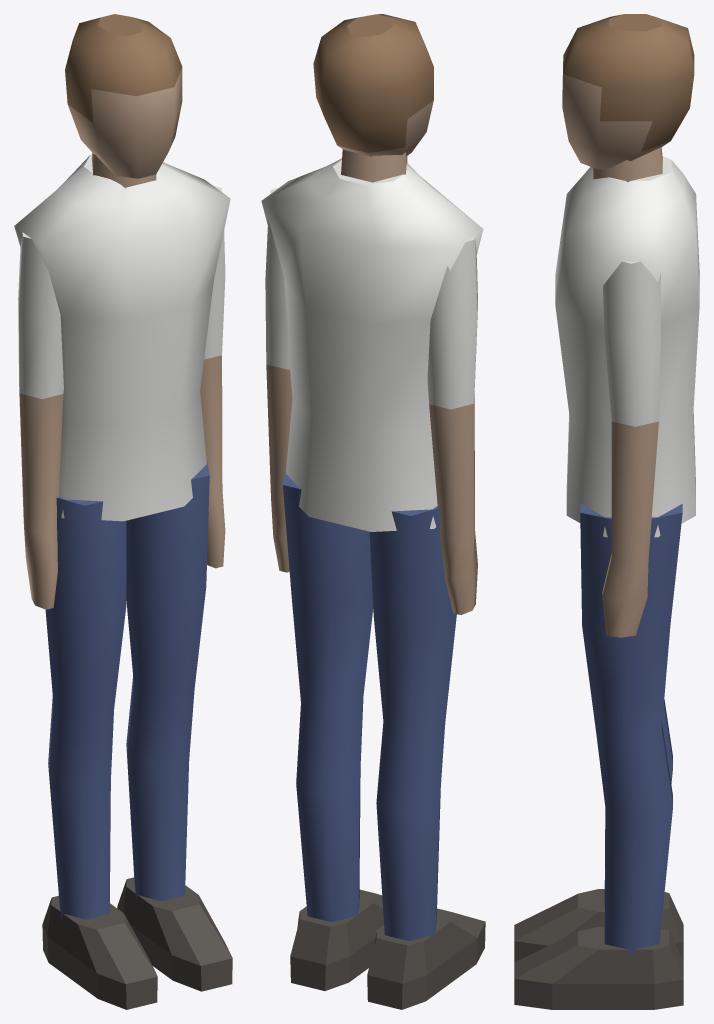
Rendered from pedestrian_1.fbx.
3 views of the same model, side by side, from view 1: azimuth 30°, elevation 25°; view 2: azimuth 150°, elevation 25°; view 3: azimuth 270°, elevation 25° (orthographic). The views are drawn at different scales.
Visible parts, largest first — view 1: pedestrian_1; view 2: pedestrian_1; view 3: pedestrian_1.
Boxes of the visible parts, box(x1,y1,x2,y2) form: pedestrian_1: box(14, 14, 232, 1009); pedestrian_1: box(261, 14, 485, 1009); pedestrian_1: box(514, 14, 699, 1009).
Size of the model in its own units: 0.3747 by 1.62 by 0.2849.
